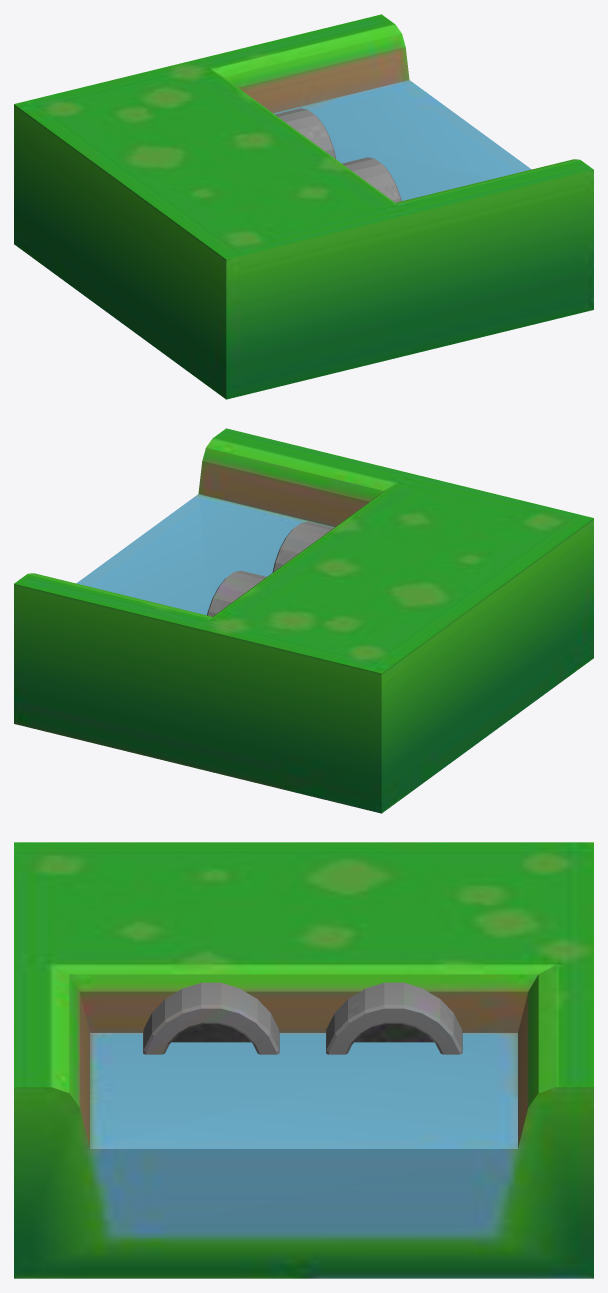
File: creek_bridge.glb
3 renders of one model, top to bottom at view 1: azimuth 30°, elevation 25°; view 2: azimuth 150°, elevation 25°; view 3: azimuth 270°, elevation 25°, orthographic. The views are drawn at different scales.
Visible parts, largest first — view 1: creek_bridge; view 2: creek_bridge; view 3: creek_bridge.
Part boxes in pixels (box(x1,y1,x2,y2)): creek_bridge: box(14, 14, 593, 399); creek_bridge: box(14, 428, 593, 813); creek_bridge: box(14, 842, 593, 1278).
Size of the model in its own units: 2 by 0.7285 by 2.
Materials: 1 (1 with a texture image).
